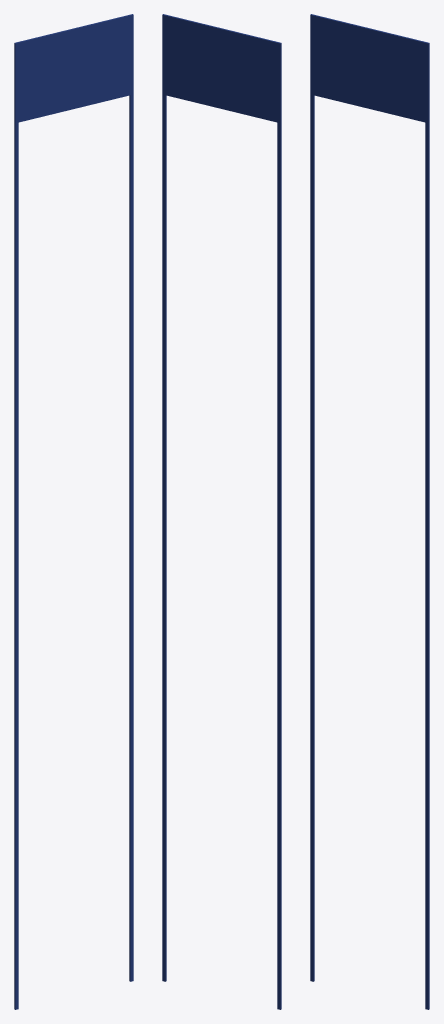
Rendered from marker2_darkblue_LOD1.gltf.
3 renders of one model, left to right at view 1: azimuth 30°, elevation 25°; view 2: azimuth 150°, elevation 25°; view 3: azimuth 330°, elevation 25°, orthographic.
Parts seen in each view (by area): view 1: Box001; view 2: Box001; view 3: Box001.
Part boxes in pixels (bbox=[...]): Box001: bbox=[14, 14, 133, 1009]; Box001: bbox=[162, 14, 281, 1009]; Box001: bbox=[310, 14, 429, 1009].
Bounding box in the file's own units: 0.7 × 5.45 × 0.01.
